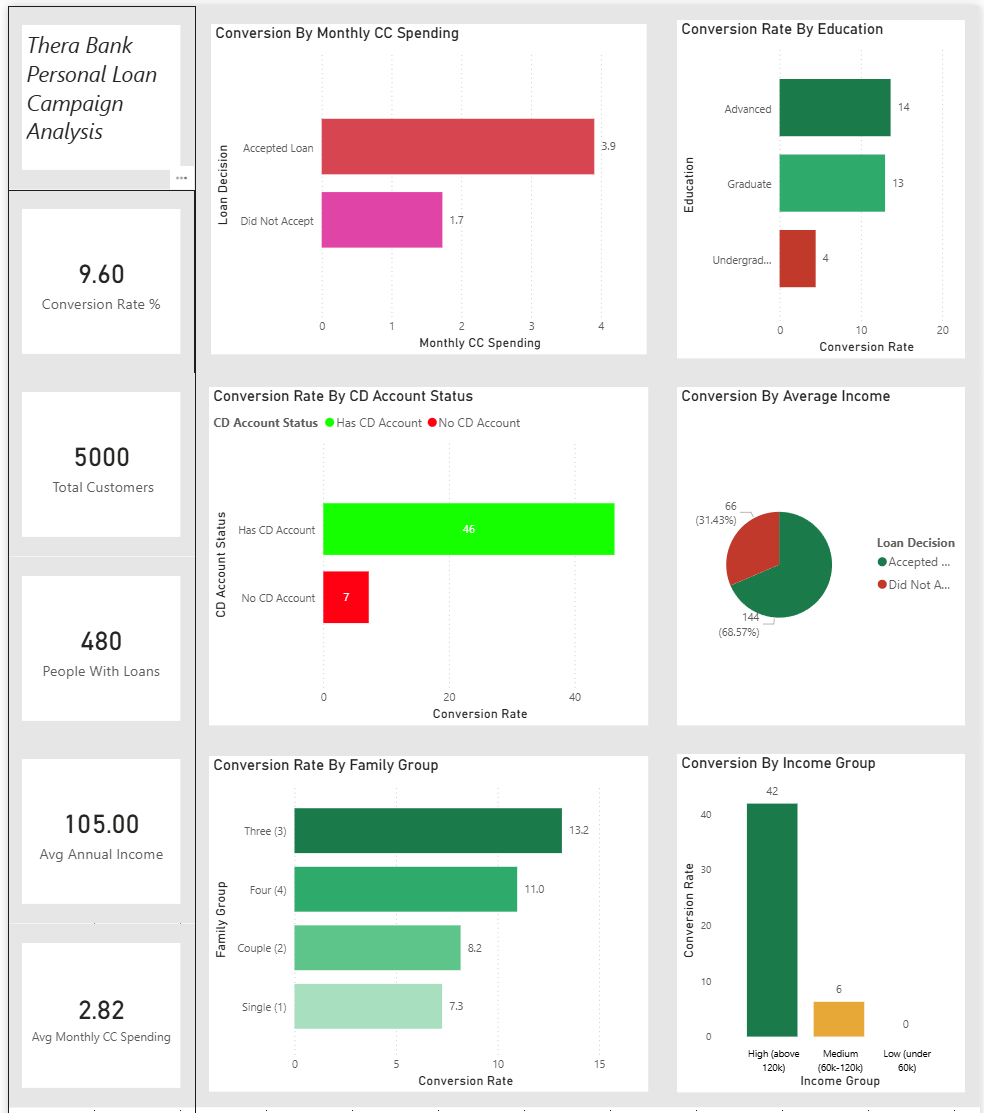

The page's visual inventory and layout, read from the dashboard file:
{"tool":"powerbi","page":{"name":"Page1","canvas":[1080,1260],"ordinal":0},"visuals":[{"type":"group","id":"g1","title":"Group 3","box":[208.2,-0.2,520,408],"z":0,"group":"g14"},{"type":"shape","box":[208.2,-0.2,520,408],"z":0,"group":"g18"},{"type":"shape","box":[728,-0.2,352,408],"z":0,"group":"g23"},{"type":"shape","box":[0.2,0.1,208.2,203.9],"z":0,"group":"g16"},{"type":"group","id":"g2","title":"Group 7","box":[0.2,204,208.2,203.9],"z":0,"group":"g17"},{"type":"shape","box":[0.2,204,208.2,203.9],"z":0,"group":"g2"},{"type":"cardVisual","fields":{"Data":["Sum(Query6.Accepted_Loan)"]},"box":[1032,288,48,48],"z":0},{"type":"group","id":"g3","title":"Group 4","box":[208.2,407.8,520,408],"z":0,"group":"g15"},{"type":"group","id":"g4","title":"Group 3","box":[208.2,407.8,520,408],"z":0,"group":"g3"},{"type":"shape","box":[208.2,407.8,520,408],"z":0,"group":"g19"},{"type":"shape","box":[728,407.8,352,408],"z":0,"group":"g10"},{"type":"group","id":"g5","title":"Group 7","box":[0.2,407.9,208.2,203.9],"z":0,"group":"g20"},{"type":"shape","box":[0.2,407.9,208.2,203.9],"z":0,"group":"g5"},{"type":"group","id":"g6","title":"Group 7","box":[0.2,611.8,208.2,203.9],"z":0,"group":"g24"},{"type":"shape","box":[0.2,611.8,208.2,203.9],"z":0,"group":"g6"},{"type":"group","id":"g7","title":"Group 7","box":[0.2,815.7,208.2,203.9],"z":0,"group":"g25"},{"type":"shape","box":[0.2,815.7,208.2,203.9],"z":0,"group":"g7"},{"type":"group","id":"g8","title":"Group 3","box":[208.2,815.8,520,408],"z":0,"group":"g13"},{"type":"shape","box":[208.2,815.8,520,408],"z":0,"group":"g21"},{"type":"shape","box":[728,815.8,352,408],"z":0,"group":"g22"},{"type":"group","id":"g9","title":"Group 7","box":[0.2,1019.6,208.2,203.9],"z":0,"group":"g26"},{"type":"shape","box":[0.2,1019.6,208.2,203.9],"z":0,"group":"g9"},{"type":"barChart","title":"Conversion By Monthly CC Spending ","fields":{"Category":["Query5.Loan_Decision"],"Y":["Sum(Query5.Avg_Monthly_CC_Spending)"]},"box":[226.1,20.2,484.1,367.2],"z":1000,"group":"g14"},{"type":"textbox","box":[16.2,21.6,176.2,161],"z":1000,"group":"g16"},{"type":"card","fields":{"Values":["Sum(Query1.Conversion_Rate)"]},"box":[16.2,225.5,176.2,161],"z":1000,"group":"g17"},{"type":"group","id":"g10","title":"Group 1","box":[728,407.8,352,408],"z":1000},{"type":"barChart","title":"Conversion Rate By CD Account Status","fields":{"Category":["Query6.CD_Account_Status"],"Y":["Sum(Query6.Conversion_Rate)"],"Series":["Query6.CD_Account_Status"]},"box":[224.2,423.8,488,376],"z":1000,"group":"g15"},{"type":"card","fields":{"Values":["Sum(Query1.Total_Customers)"]},"box":[16.2,429.4,176.2,161],"z":1000,"group":"g20"},{"type":"card","fields":{"Values":["Sum(Query1.Total_People_With_Loan)"]},"box":[16.2,633.3,176.2,161],"z":1000,"group":"g24"},{"type":"barChart","title":" Conversion Rate By Family  Group","fields":{"Category":["Query4.Family_Group"],"Y":["Sum(Query4.Conversion_Rate)"]},"box":[224.2,833.2,488,373.3],"z":1000,"group":"g13"},{"type":"card","fields":{"Values":["Avg(Query5.Avg_Annual_Income)"]},"box":[16.2,837.2,176.2,161],"z":1000,"group":"g25"},{"type":"card","fields":{"Values":["Avg(Query5.Avg_Monthly_CC_Spending)"]},"box":[16.2,1041.1,176.2,161],"z":1000,"group":"g26"},{"type":"group","id":"g11","title":"Group 2","box":[728,-0.2,352,416],"z":2000},{"type":"pieChart","title":"Conversion By Average Income","fields":{"Y":["Sum(Query5.Avg_Annual_Income)"],"Category":["Query5.Loan_Decision"]},"box":[744,423.8,320,376],"z":4000,"group":"g10"},{"type":"group","id":"g12","title":"Group 3","box":[728,815.8,352,400],"z":4000},{"type":"group","id":"g13","title":"Group 4","box":[208.2,815.8,520,408],"z":5000},{"type":"group","id":"g14","title":"Group 5","box":[208.2,-0.2,520,408],"z":6000},{"type":"group","id":"g15","title":"Group 6","box":[208.2,407.8,520,408],"z":7000},{"type":"group","id":"g16","title":"Group 7","box":[0.2,0.1,208.2,203.9],"z":8000,"group":"g27"},{"type":"group","id":"g17","title":"Group 8","box":[0.2,204,208.2,203.9],"z":9000,"group":"g27"},{"type":"group","id":"g18","title":"Group 1","box":[208.2,-0.2,520,408],"z":10000,"group":"g1"},{"type":"group","id":"g19","title":"Group 1","box":[208.2,407.8,520,408],"z":10000,"group":"g4"},{"type":"group","id":"g20","title":"Group 8","box":[0.2,407.9,208.2,203.9],"z":10000,"group":"g27"},{"type":"group","id":"g21","title":"Group 1","box":[208.2,815.8,520,408],"z":10000,"group":"g8"},{"type":"group","id":"g22","title":"Group 1","box":[728,815.8,352,408],"z":10000,"group":"g12"},{"type":"group","id":"g23","title":"Group 1","box":[728,-0.2,352,408],"z":11000,"group":"g11"},{"type":"group","id":"g24","title":"Group 8","box":[0.2,611.8,208.2,203.9],"z":11000,"group":"g27"},{"type":"columnChart","title":"Conversion By Income Group","fields":{"Category":["Query2.Income_Group"],"Y":["Sum(Query2.Conversion_Rate)"]},"box":[744,831.8,320,376],"z":11000,"group":"g12"},{"type":"group","id":"g25","title":"Group 8","box":[0.2,815.7,208.2,214.6],"z":12000,"group":"g27"},{"type":"barChart","title":"Conversion Rate By Education","fields":{"Category":["Query3.Education"],"Y":["Sum(Query3.Conversion_Rate)"]},"box":[744,15.8,320,376],"z":12500,"group":"g11"},{"type":"group","id":"g26","title":"Group 8","box":[0.2,1019.6,208.2,214.6],"z":13000,"group":"g27"},{"type":"group","id":"g27","title":"Group 9","box":[0.2,0.1,208.2,1234.1],"z":13001}]}

Visuals, with their boxes in screenshot pixels (x1, y1, x2, y2):
"Group 3" group: locate(191, 20, 661, 389)
shape: locate(191, 20, 661, 389)
shape: locate(660, 20, 978, 389)
shape: locate(3, 20, 191, 205)
"Group 7" group: locate(3, 205, 191, 389)
shape: locate(3, 205, 191, 389)
cardVisual - Sum(Query6.Accepted_Loan): locate(935, 280, 978, 324)
"Group 4" group: locate(191, 389, 661, 757)
"Group 3" group: locate(191, 389, 661, 757)
shape: locate(191, 389, 661, 757)
shape: locate(660, 389, 978, 757)
"Group 7" group: locate(3, 389, 191, 573)
shape: locate(3, 389, 191, 573)
"Group 7" group: locate(3, 573, 191, 757)
shape: locate(3, 573, 191, 757)
"Group 7" group: locate(3, 757, 191, 941)
shape: locate(3, 757, 191, 941)
"Group 3" group: locate(191, 757, 661, 1112)
shape: locate(191, 757, 661, 1112)
shape: locate(660, 757, 978, 1112)
"Group 7" group: locate(3, 941, 191, 1112)
shape: locate(3, 941, 191, 1112)
"Conversion By Monthly CC Spending " barChart: locate(207, 39, 644, 370)
textbox: locate(18, 40, 177, 185)
card - Sum(Query1.Conversion_Rate): locate(18, 224, 177, 369)
"Group 1" group: locate(660, 389, 978, 757)
"Conversion Rate By CD Account Status" barChart: locate(205, 403, 646, 743)
card - Sum(Query1.Total_Customers): locate(18, 408, 177, 554)
card - Sum(Query1.Total_People_With_Loan): locate(18, 592, 177, 738)
" Conversion Rate By Family  Group" barChart: locate(205, 773, 646, 1110)
card - Avg(Query5.Avg_Annual_Income): locate(18, 776, 177, 922)
card - Avg(Query5.Avg_Monthly_CC_Spending): locate(18, 961, 177, 1106)
"Group 2" group: locate(660, 20, 978, 396)
"Conversion By Average Income" pieChart: locate(675, 403, 964, 743)
"Group 3" group: locate(660, 757, 978, 1112)
"Group 4" group: locate(191, 757, 661, 1112)
"Group 5" group: locate(191, 20, 661, 389)
"Group 6" group: locate(191, 389, 661, 757)
"Group 7" group: locate(3, 20, 191, 205)
"Group 8" group: locate(3, 205, 191, 389)
"Group 1" group: locate(191, 20, 661, 389)
"Group 1" group: locate(191, 389, 661, 757)
"Group 8" group: locate(3, 389, 191, 573)
"Group 1" group: locate(191, 757, 661, 1112)
"Group 1" group: locate(660, 757, 978, 1112)
"Group 1" group: locate(660, 20, 978, 389)
"Group 8" group: locate(3, 573, 191, 757)
"Conversion By Income Group" columnChart: locate(675, 772, 964, 1111)
"Group 8" group: locate(3, 757, 191, 951)
"Conversion Rate By Education" barChart: locate(675, 35, 964, 374)
"Group 8" group: locate(3, 941, 191, 1112)
"Group 9" group: locate(3, 20, 191, 1112)
